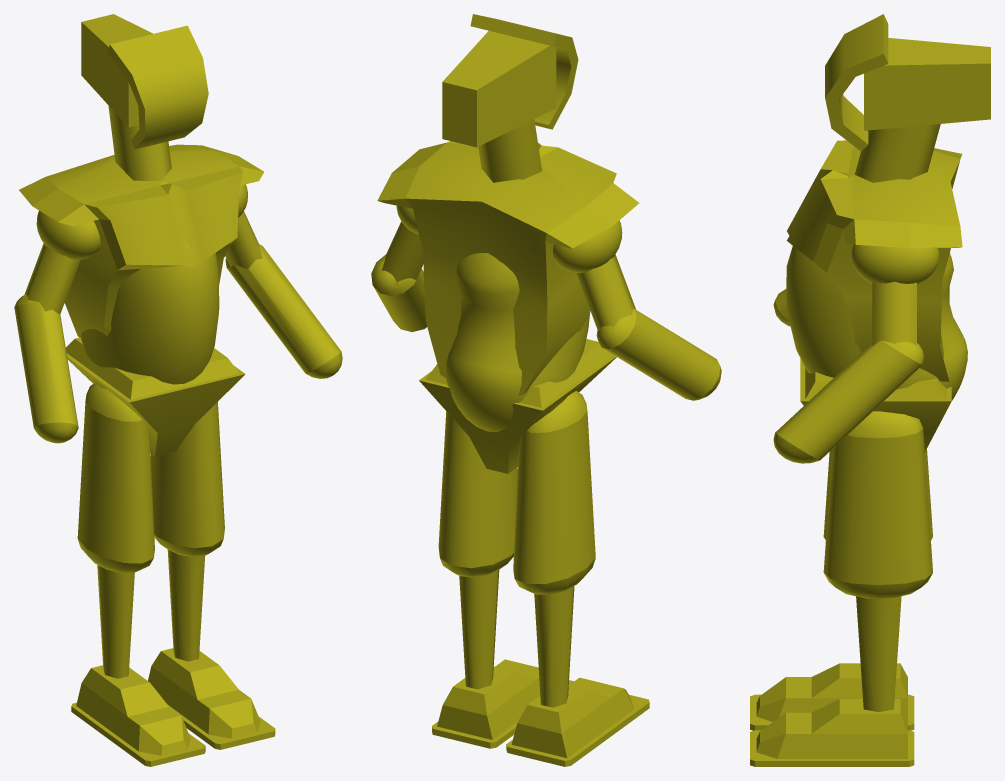
Rendered from Derek.FBX.
The picture shows the model from 3 angles, left to right: view 1: azimuth 30°, elevation 25°; view 2: azimuth 150°, elevation 25°; view 3: azimuth 270°, elevation 25°; orthographic projection. The views are drawn at different scales.
Visible parts, largest first — view 1: Box184, Sphere024, OilTank032, OilTank033, Box185, Box187, Box186, Box188, OilTank031, OilTank034, Box189, Cylinder187 (+5 smaller); view 2: Box184, OilTank032, Sphere024, Box189, OilTank033, Box187, OilTank031, Box188, Box186, Cylinder187, Cylinder188, Box185 (+5 smaller); view 3: Box184, OilTank033, Box189, Box188, Sphere024, OilTank034, Box187, Box185, Cylinder188, Cylinder184, Box186, Sphere025 (+2 smaller).
Part boxes in pixels (x1=…): Box184: x1=19, y1=144, x2=263, y2=337; Sphere024: x1=80, y1=240, x2=219, y2=389; OilTank032: x1=77, y1=383, x2=154, y2=573; OilTank033: x1=150, y1=402, x2=224, y2=556; Box185: x1=107, y1=25, x2=208, y2=149; Box187: x1=71, y1=665, x2=205, y2=766; Box186: x1=65, y1=337, x2=245, y2=456; Box188: x1=148, y1=648, x2=275, y2=749; OilTank031: x1=14, y1=294, x2=78, y2=443; OilTank034: x1=225, y1=244, x2=342, y2=378; Box189: x1=81, y1=14, x2=153, y2=127; Cylinder187: x1=97, y1=565, x2=134, y2=678; Box184: x1=377, y1=141, x2=639, y2=395; OilTank032: x1=513, y1=391, x2=595, y2=594; Sphere024: x1=446, y1=253, x2=590, y2=431; Box189: x1=442, y1=31, x2=556, y2=147; OilTank033: x1=438, y1=411, x2=517, y2=577; Box187: x1=506, y1=677, x2=649, y2=766; OilTank031: x1=596, y1=308, x2=721, y2=400; Box188: x1=432, y1=659, x2=573, y2=748; Box186: x1=419, y1=339, x2=616, y2=473; Cylinder187: x1=534, y1=586, x2=574, y2=707; Cylinder188: x1=459, y1=570, x2=499, y2=689; Box185: x1=470, y1=14, x2=578, y2=129; Box184: x1=787, y1=140, x2=962, y2=381; OilTank033: x1=823, y1=411, x2=932, y2=598; Box189: x1=864, y1=38, x2=990, y2=130; Box188: x1=750, y1=699, x2=914, y2=766; Sphere024: x1=785, y1=246, x2=967, y2=418; OilTank034: x1=773, y1=340, x2=924, y2=463; Box187: x1=750, y1=663, x2=914, y2=730; Box185: x1=825, y1=14, x2=888, y2=151; Cylinder188: x1=856, y1=596, x2=901, y2=712; Cylinder184: x1=855, y1=124, x2=940, y2=182; Box186: x1=800, y1=358, x2=951, y2=451; Sphere025: x1=851, y1=244, x2=939, y2=284.
Bounding box in the file's own units: 104 × 221 × 68.87.
